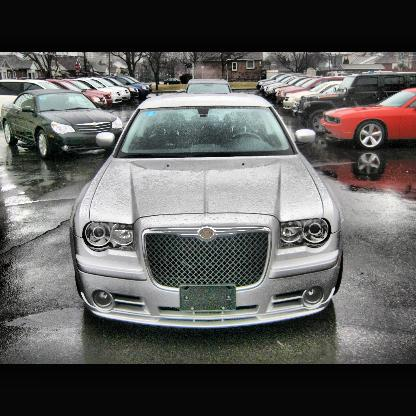Chrysler 300 SRT-8 2010: (71, 93, 347, 335)
